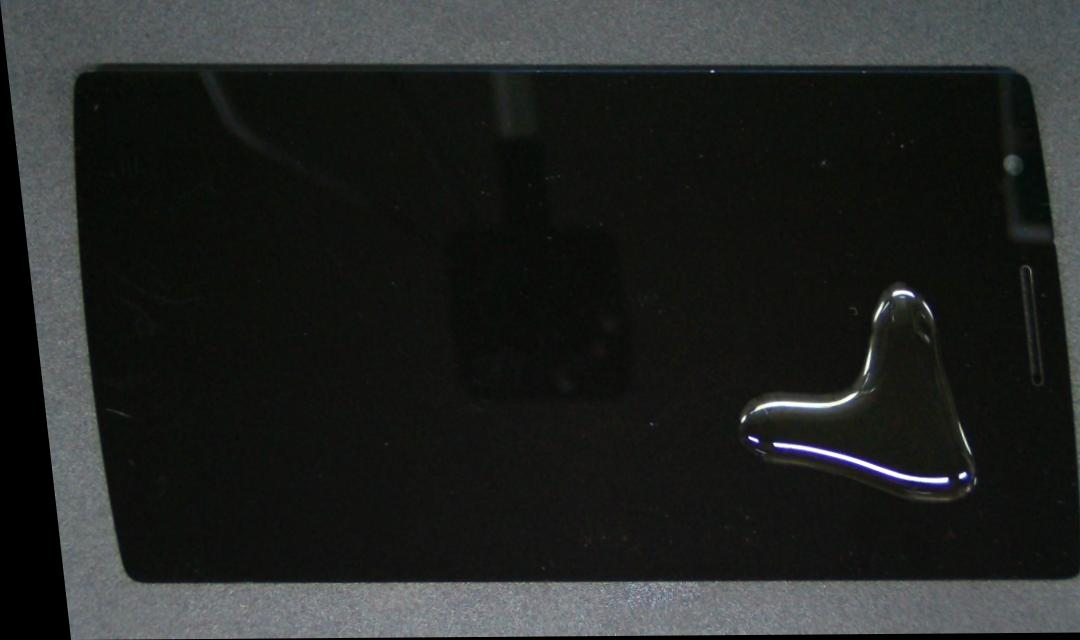oil: (711, 260, 1012, 551)
